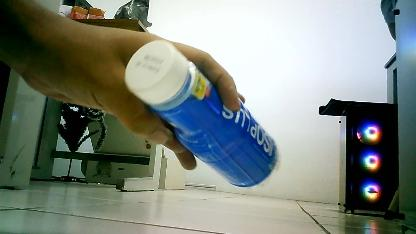Plastic Bottle: (123, 39, 281, 189)
